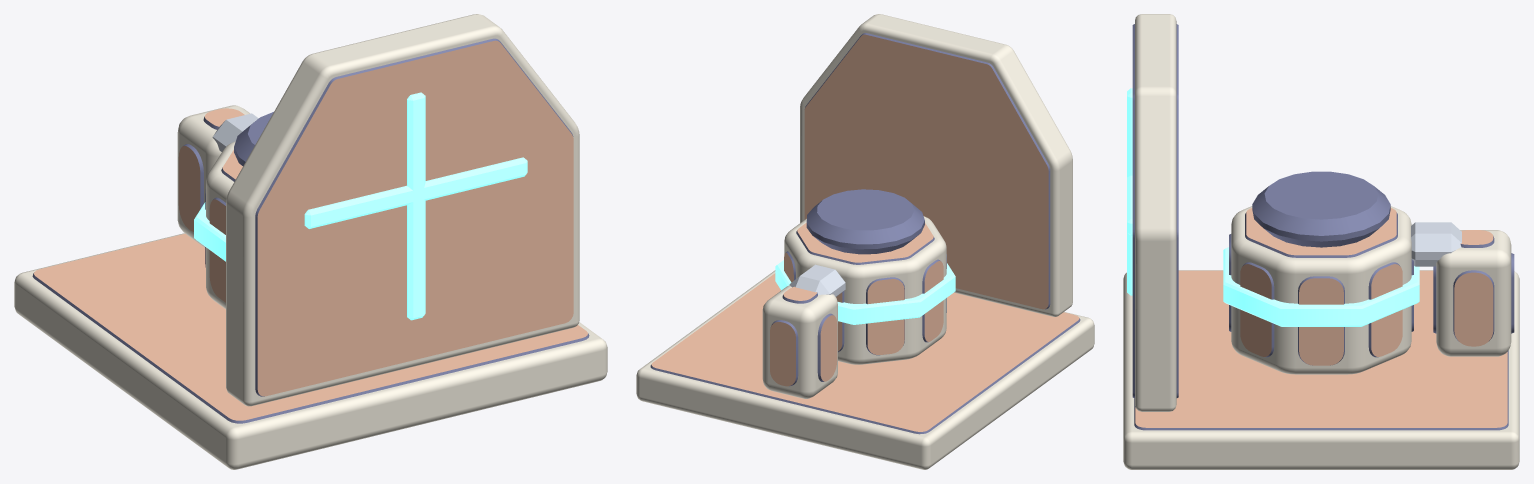
File: R4X_DefensiveTurretDeployer.fbx
The picture shows the model from 3 angles, left to right: view 1: azimuth 30°, elevation 25°; view 2: azimuth 150°, elevation 25°; view 3: azimuth 270°, elevation 25°; orthographic projection. The views are drawn at different scales.
Parts seen in each view (by area): view 1: R4X_DefensiveTurretDeployer_Pod, R4X_DefensiveTurretDeployer_Body; view 2: R4X_DefensiveTurretDeployer_Pod, R4X_DefensiveTurretDeployer_Body; view 3: R4X_DefensiveTurretDeployer_Body, R4X_DefensiveTurretDeployer_Pod.
Boxes of the visible parts, x1=… form: R4X_DefensiveTurretDeployer_Pod: x1=194, y1=14, x2=579, y2=406; R4X_DefensiveTurretDeployer_Body: x1=14, y1=105, x2=607, y2=469; R4X_DefensiveTurretDeployer_Pod: x1=775, y1=14, x2=1072, y2=364; R4X_DefensiveTurretDeployer_Body: x1=636, y1=264, x2=1094, y2=469; R4X_DefensiveTurretDeployer_Body: x1=1123, y1=222, x2=1519, y2=469; R4X_DefensiveTurretDeployer_Pod: x1=1127, y1=14, x2=1419, y2=411.
Size of the model in its own units: 0.514 by 0.487 by 0.514.
